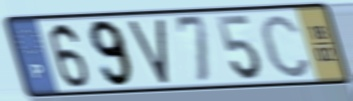5: (213, 13, 264, 83)
6: (46, 20, 92, 90)
7: (171, 14, 213, 86)
9: (86, 18, 139, 89)
C: (257, 11, 314, 81)
V: (126, 16, 171, 87)
